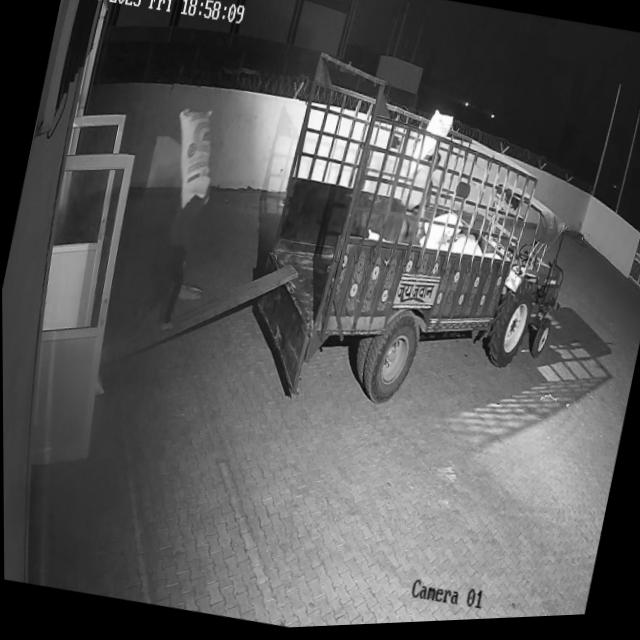sack: (162, 104, 225, 213)
